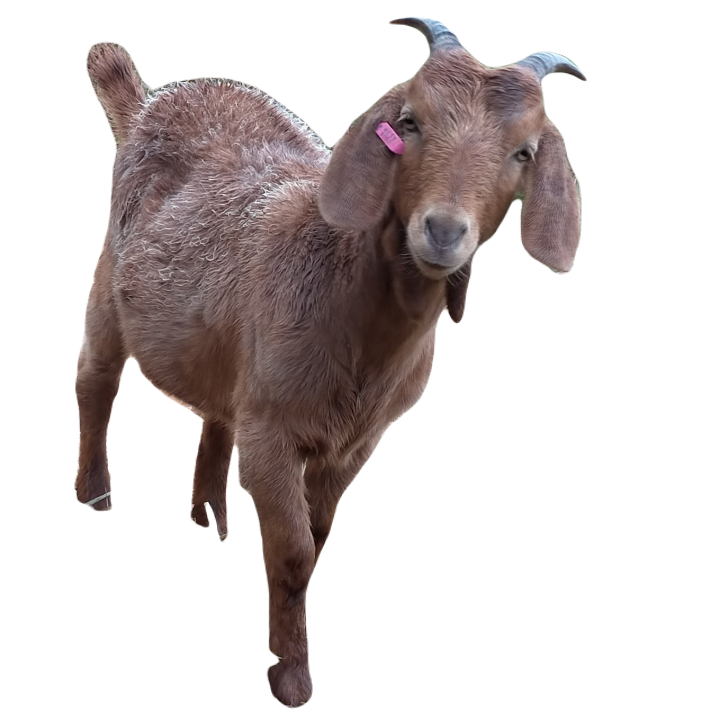Goat: (71, 16, 588, 705)
